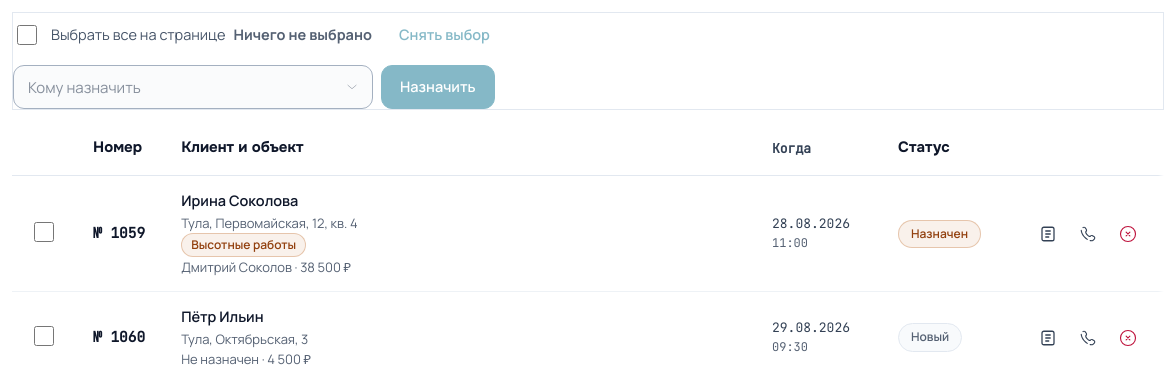
Test: Панель режима выбора нарядов › «выбрать все на странице» берёт обе строки, «снять выбор» возвращает к нулю
What coordinates should you click on to do the following:
click the checkbox labelled "Выбрать все на странице"
I would click on:
 (27, 35)
Its box is [17,25,37,45].
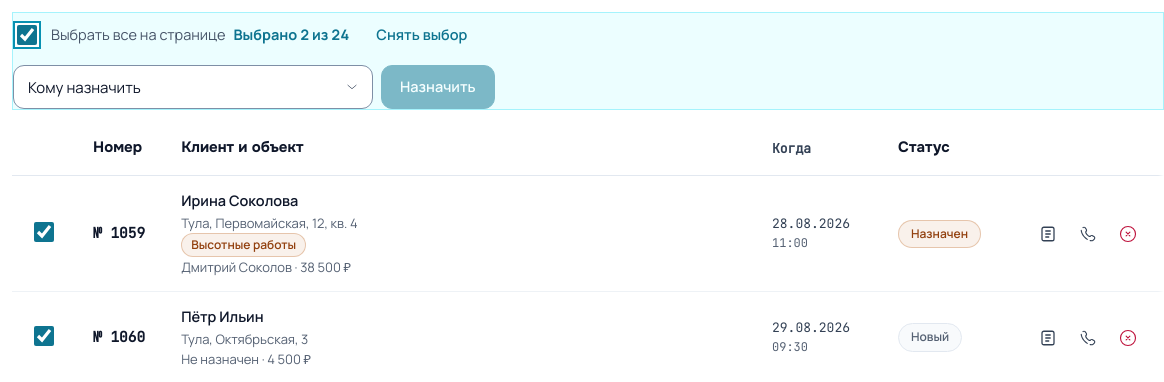
What coordinates should you click on to do the following:
click the button "Снять выбор"
I would click on:
 (422, 35)
Its box is [357,13,486,57].
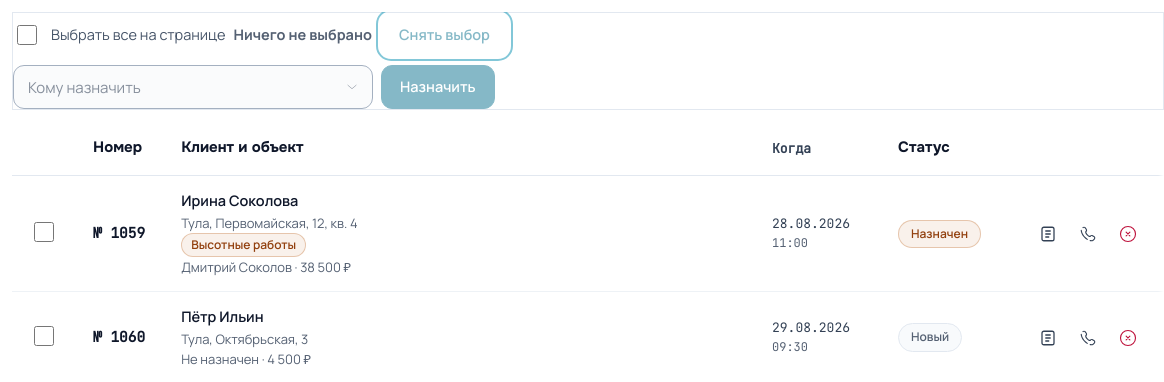
Expected: the text "Ничего не выбрано" is shown, [234,24,372,46]
